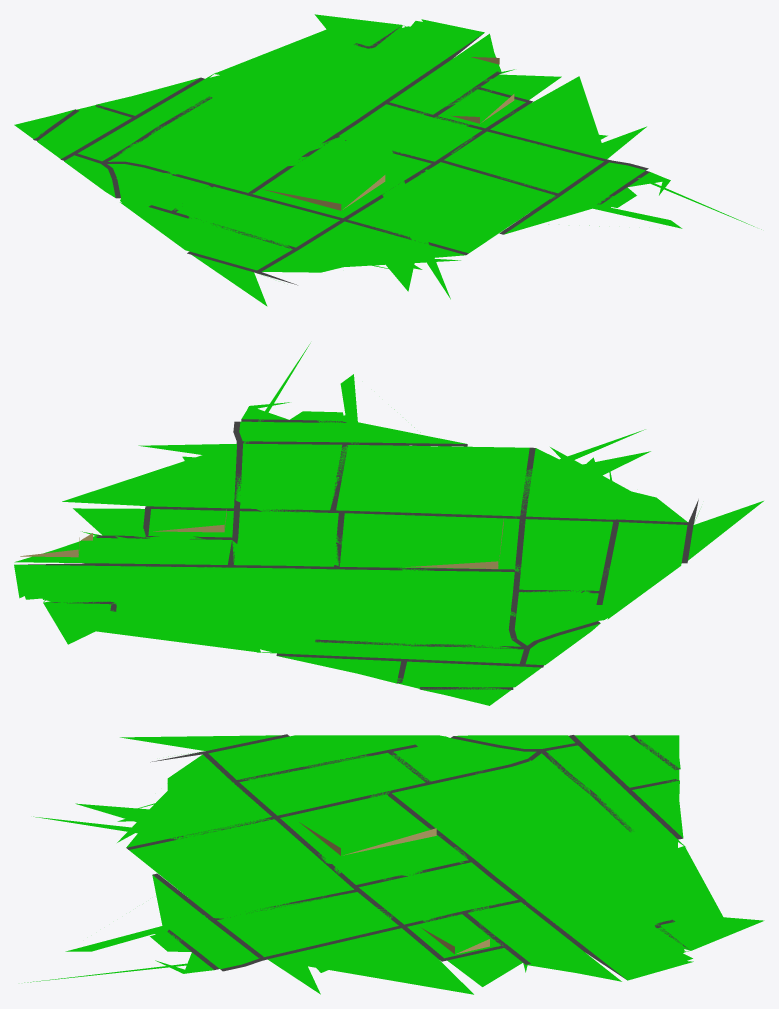
The picture shows the model from 3 angles, top to bottom: view 1: azimuth 30°, elevation 25°; view 2: azimuth 150°, elevation 25°; view 3: azimuth 270°, elevation 25°; orthographic projection. The views are drawn at different scales.
Size of the model in its own units: 362 by 5 by 440.
